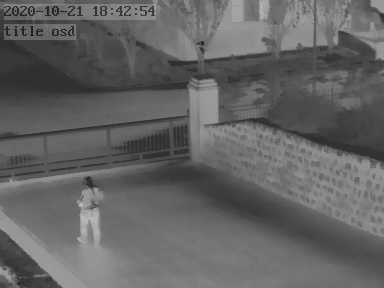person: (78, 179, 103, 246)
